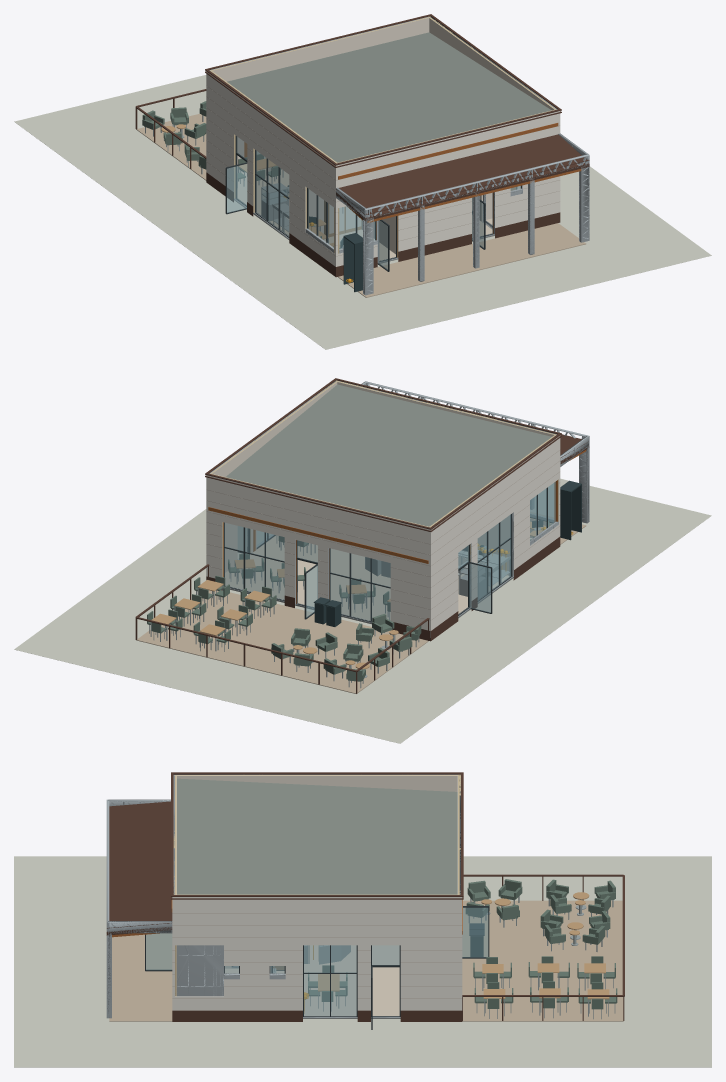
Rendered from cafe.glb.
The picture shows the model from 3 angles, top to bottom: view 1: azimuth 30°, elevation 25°; view 2: azimuth 150°, elevation 25°; view 3: azimuth 270°, elevation 25°; orthographic projection. The views are drawn at different scales.
Parts seen in each view (by area): view 1: env.site-001, ar.roof.outer-001-lstk, ar.canopy-001-lstk, lstk-canopy, ar.floors-003, ar.walls.outer-005, ar.walls.outer-025, ar.glazing-009, ar.walls.outer-010, ar.walls.outer-021, ar.walls.outer-005-lstk, ar.walls.outer-022 (+26 smaller); view 2: env.site-001, ar.roof.outer-001-lstk, ar.floors-002, design.interior-001, ar.walls.outer-011, ar.glazing-007, ar.glazing-005, ar.walls.outer-025, ar.walls.outer-016, ar.walls.outer-012, ar.glazing-009, lstk-canopy (+23 smaller); view 3: env.site-001, ar.roof.outer-001-lstk, ar.floors-002, ar.canopy-001-lstk, ar.walls.outer-038, ar.walls.outer-038-lstk, ar.floors-003, design.interior-001, ar.glazing-014, ar.walls.outer-031, lstk-walls, ar.walls.outer-031-lstk (+27 smaller).
Boxes of the visible parts, x1,y1,x2,y2 form: env.site-001: (14,75,711,349); ar.roof.outer-001-lstk: (227,32,551,162); ar.canopy-001-lstk: (336,134,589,214); lstk-canopy: (336,133,589,295); ar.floors-003: (338,223,586,297); ar.walls.outer-005: (398,135,471,251); ar.walls.outer-025: (206,74,233,191); ar.glazing-009: (255,150,289,237); ar.walls.outer-010: (523,113,560,221); ar.walls.outer-021: (289,134,305,244); ar.walls.outer-005-lstk: (398,132,471,250); ar.walls.outer-022: (253,108,289,174); env.site-001: (14,478,711,743); ar.roof.outer-001-lstk: (226,384,551,526); ar.floors-002: (136,590,428,693); design.interior-001: (225,535,509,620); ar.walls.outer-011: (390,522,430,630); ar.glazing-007: (224,522,284,600); ar.glazing-005: (329,548,390,622); ar.walls.outer-025: (430,513,458,637); ar.walls.outer-016: (222,481,284,536); ar.walls.outer-012: (328,507,390,562); ar.glazing-009: (477,514,511,601); lstk-canopy: (361,381,589,523); env.site-001: (14,856,711,1067); ar.roof.outer-001-lstk: (177,778,457,894); ar.floors-002: (462,900,623,1021); ar.canopy-001-lstk: (107,801,172,928); ar.walls.outer-038: (400,899,462,1010); ar.walls.outer-038-lstk: (400,897,462,1010); ar.floors-003: (109,933,172,1021); design.interior-001: (276,945,399,1015); ar.glazing-014: (303,945,357,1016); ar.walls.outer-031: (240,899,269,1010); lstk-walls: (177,945,400,1018); ar.walls.outer-031-lstk: (240,897,269,1010).
Size of the model in its own units: 18.6 by 5.25 by 26.
